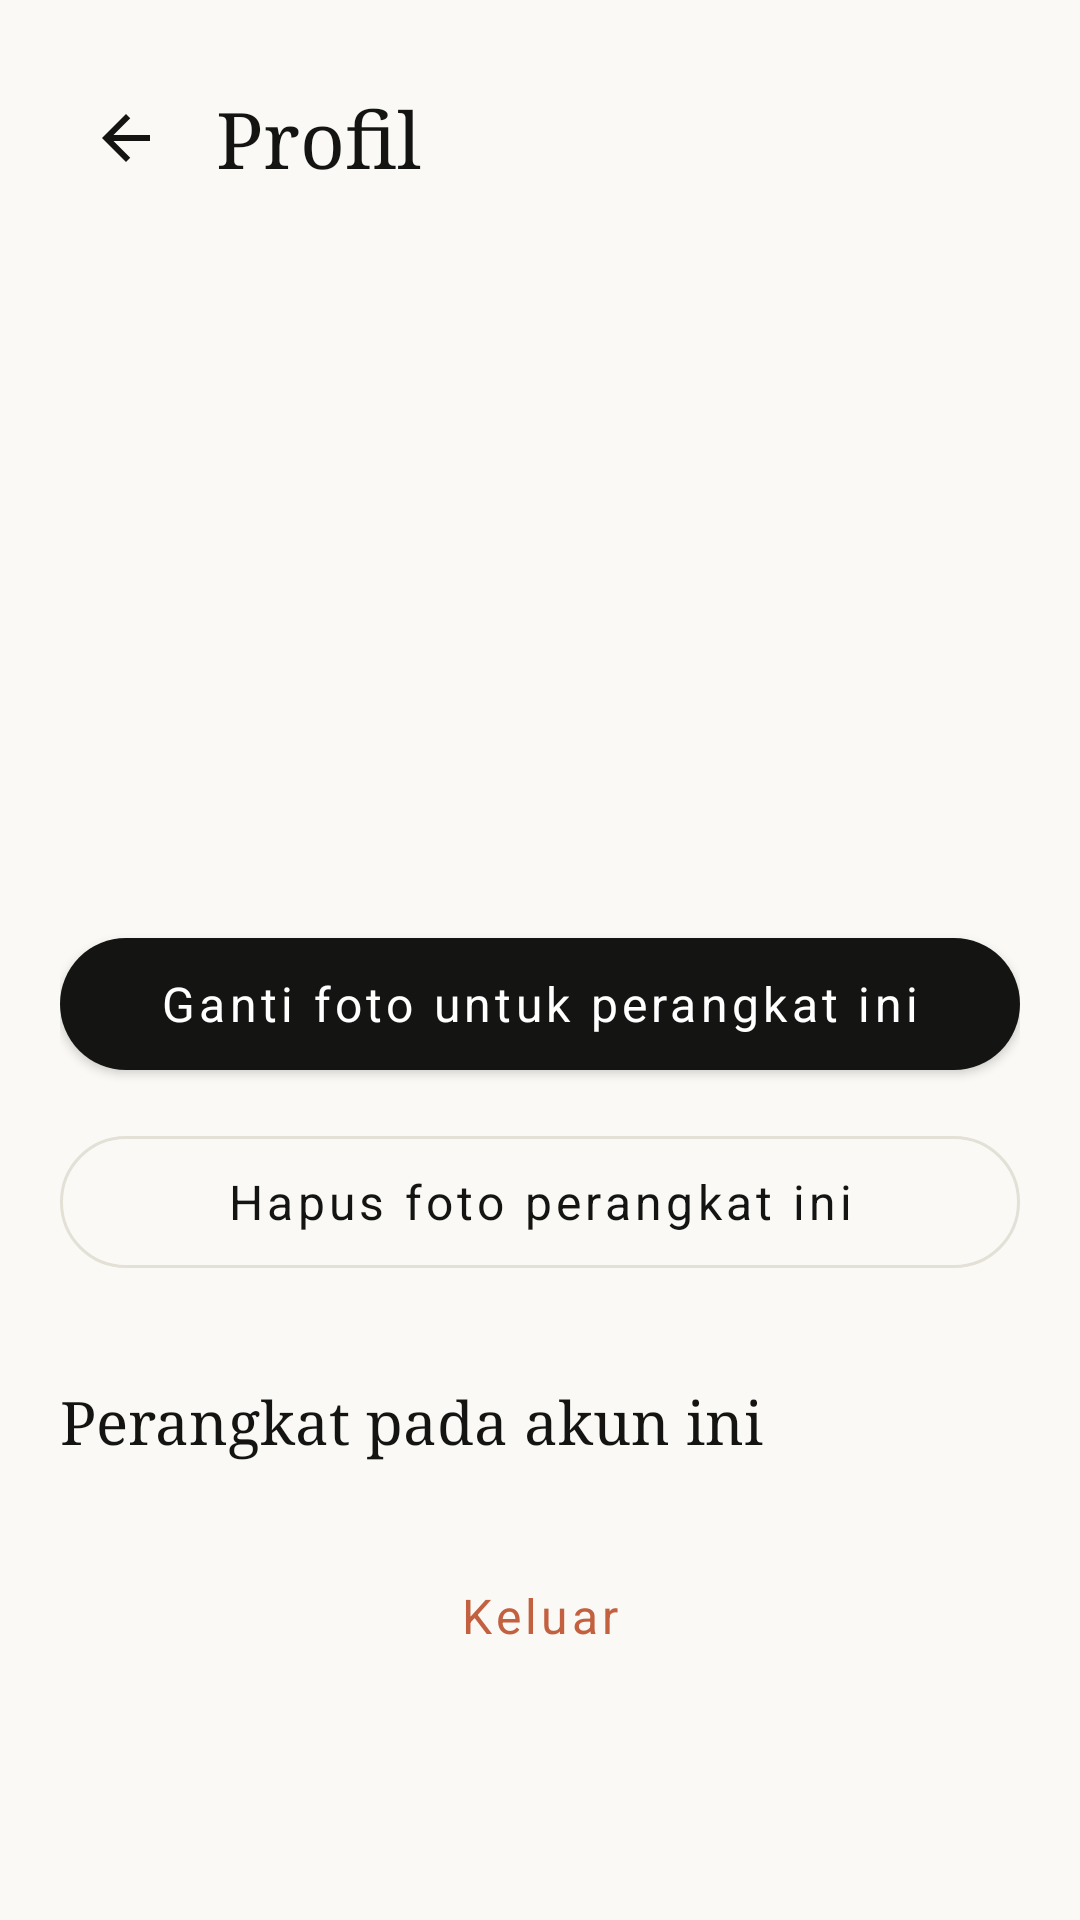

Icon bounding boxes for this 1080px x 1920px phone screenshot, format Rect(x1, y1, x2, y2):
back: Rect(102, 114, 150, 162)
